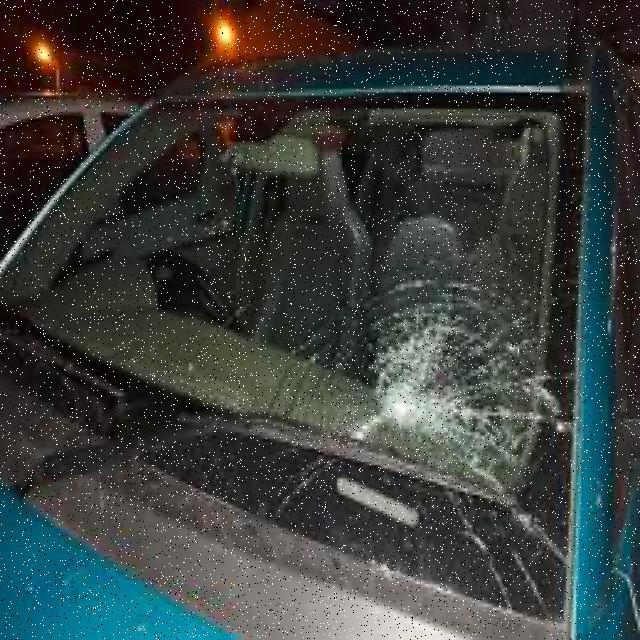Front-Windscreen-Damage: (7, 99, 596, 636)
